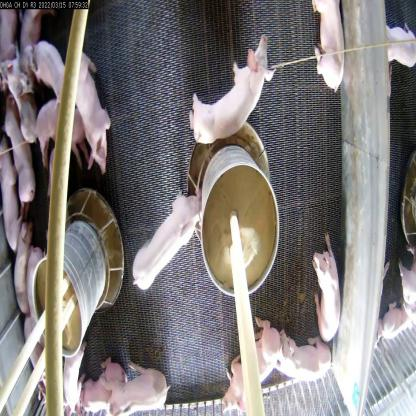Pig: (188, 31, 272, 144), (131, 188, 204, 297), (69, 51, 119, 174), (255, 314, 333, 388), (219, 335, 293, 412), (302, 0, 355, 97), (31, 104, 99, 170), (307, 231, 345, 349), (2, 100, 37, 205), (102, 364, 174, 415), (28, 30, 68, 104), (2, 141, 24, 252), (82, 352, 124, 410), (383, 12, 415, 82), (62, 348, 88, 416), (13, 214, 29, 317), (383, 300, 416, 346)
